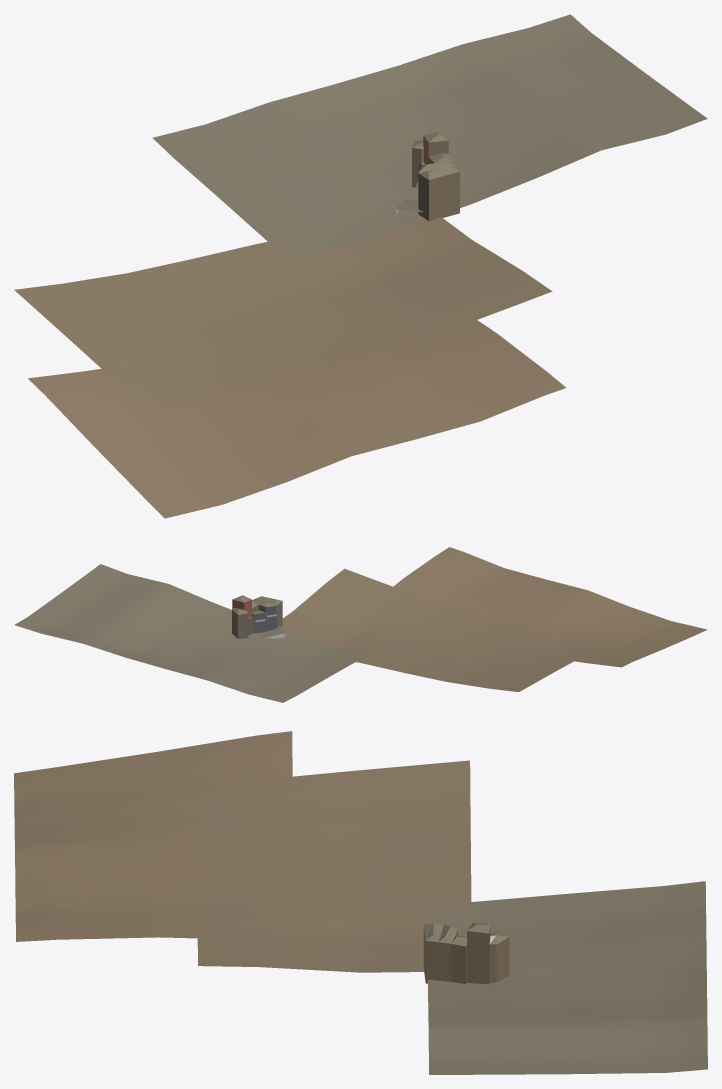
Rendered from rua_Mourzinho.fbx.
3 views of the same model, one above another, from view 1: azimuth 30°, elevation 25°; view 2: azimuth 150°, elevation 25°; view 3: azimuth 270°, elevation 25° (orthographic). The views are drawn at different scales.
Visible parts, largest first — view 1: Google_Earth_Terrain, Google_Earth_Terrain1, Google_Earth_Terrain2, Model; view 2: Google_Earth_Terrain, Google_Earth_Terrain1, Google_Earth_Terrain2, Model; view 3: Google_Earth_Terrain1, Google_Earth_Terrain, Google_Earth_Terrain2, Model.
Part boxes in pixels (x1,y1,x2,y2): Google_Earth_Terrain: (152,14,707,257); Google_Earth_Terrain1: (14,199,552,412); Google_Earth_Terrain2: (28,288,566,518); Model: (395,131,459,221); Google_Earth_Terrain: (14,564,368,702); Google_Earth_Terrain1: (261,568,603,691); Google_Earth_Terrain2: (364,547,707,667); Model: (232,595,285,638); Google_Earth_Terrain1: (196,760,471,972); Google_Earth_Terrain: (428,881,707,1074); Google_Earth_Terrain2: (14,731,294,941); Model: (423,922,509,984).
Size of the model in its own units: 332 by 41.05 by 261.
